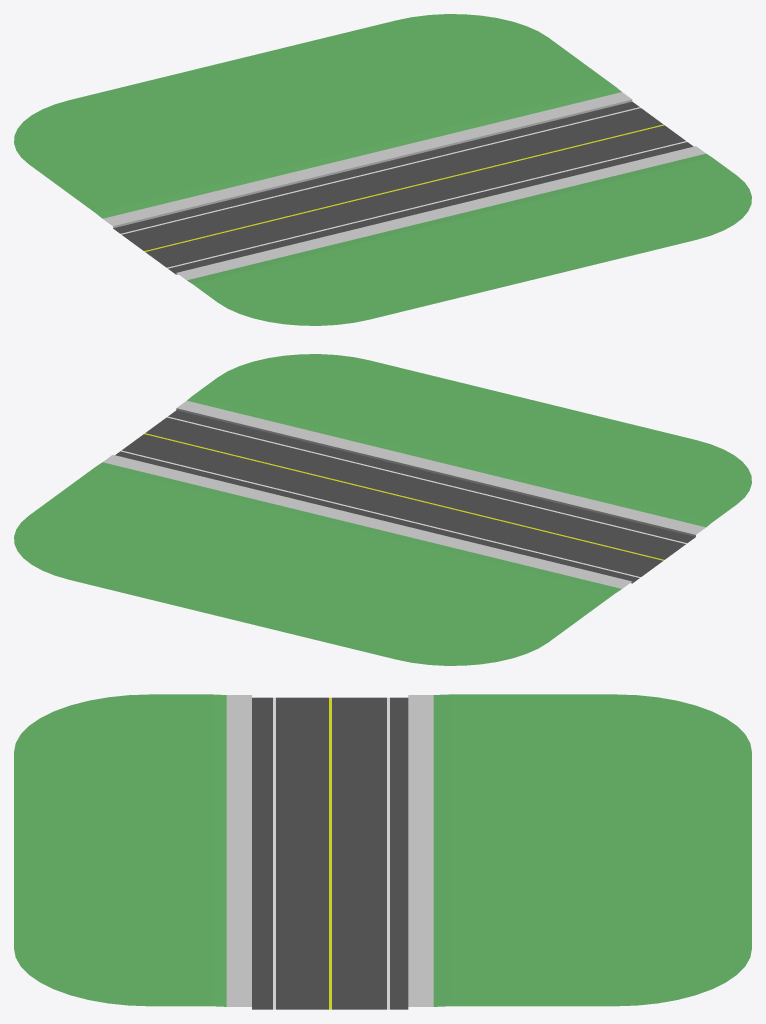
The model's file is EnvRoad.fbx.
3 renders of one model, top to bottom at view 1: azimuth 30°, elevation 25°; view 2: azimuth 150°, elevation 25°; view 3: azimuth 270°, elevation 25°, orthographic. The views are drawn at different scales.
Parts seen in each view (by area): view 1: GroundRoad; view 2: GroundRoad; view 3: GroundRoad.
Part boxes in pixels (left/top/right/bottom): GroundRoad: left=14, top=14, right=751, bottom=325; GroundRoad: left=14, top=354, right=751, bottom=665; GroundRoad: left=14, top=694, right=751, bottom=1009.
Bounding box in the file's own units: 0.19 × 0.000917 × 0.19.
